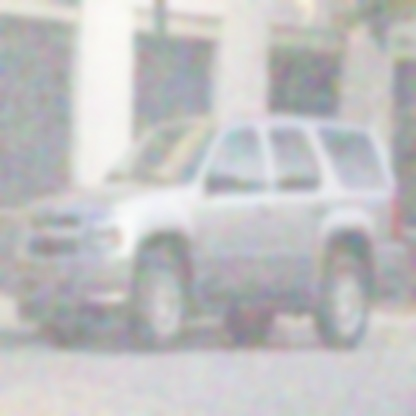Vehicle: (13, 111, 404, 361)
